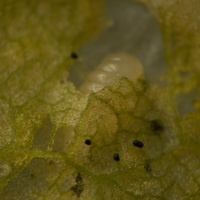insect: (71, 172, 83, 196)
